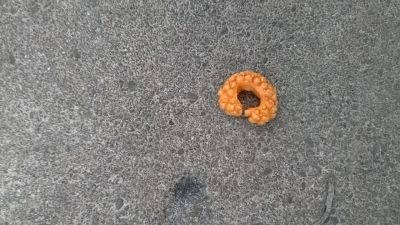eggs: (215, 70, 280, 129)
